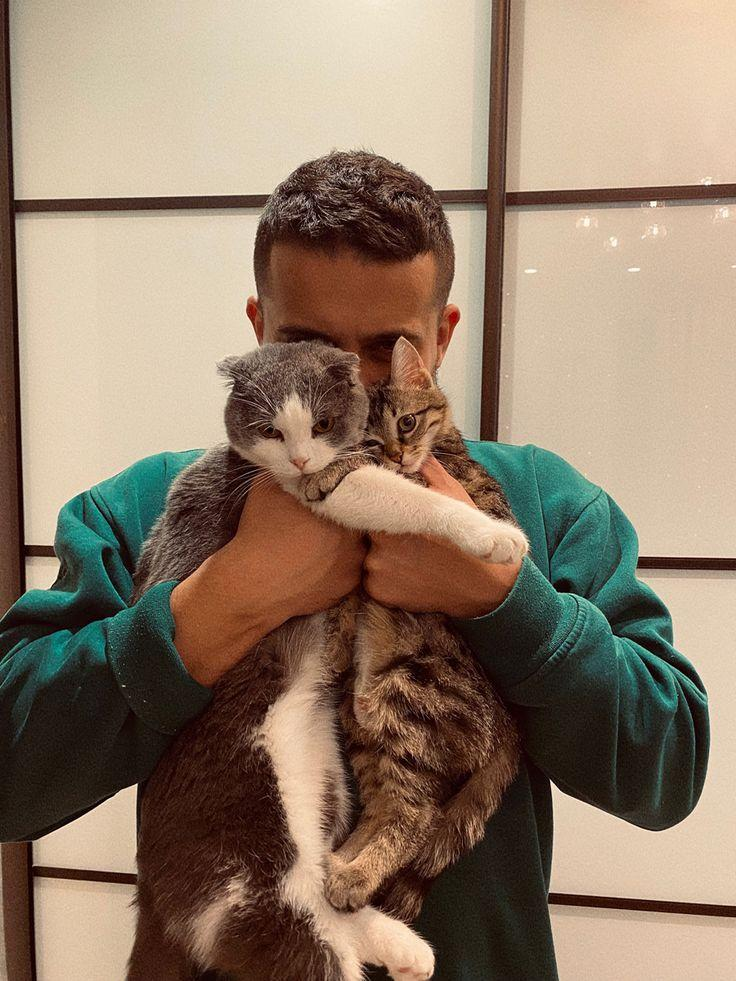kedo: (218, 338, 370, 477)
